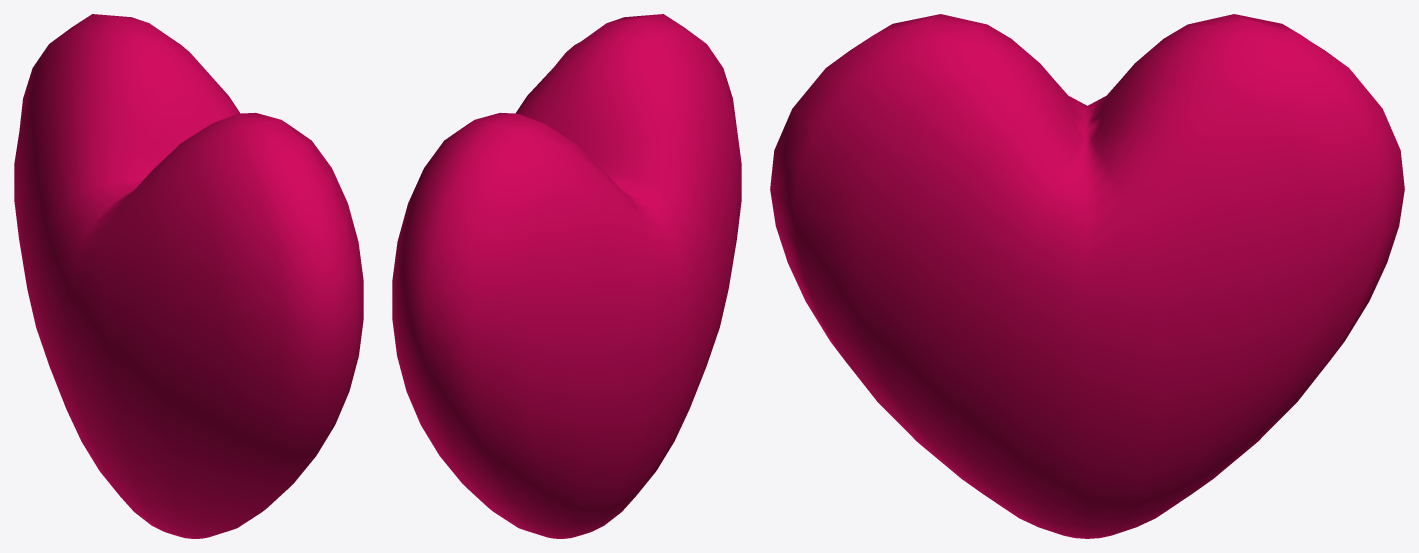
File: PropHeart.fbx
3 renders of one model, left to right at view 1: azimuth 30°, elevation 25°; view 2: azimuth 150°, elevation 25°; view 3: azimuth 270°, elevation 25°, orthographic. The views are drawn at different scales.
Visible parts, largest first — view 1: heart; view 2: heart; view 3: heart.
Boxes of the visible parts, bbox=[...] form: heart: bbox=[14, 14, 363, 538]; heart: bbox=[392, 14, 741, 538]; heart: bbox=[770, 14, 1404, 538].
Bounding box in the file's own units: 47.08 × 85.52 × 96.06.
